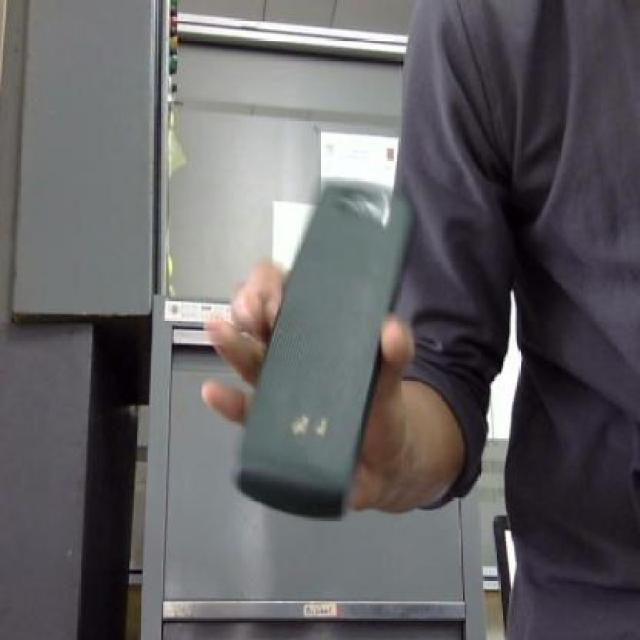Plastic: (229, 172, 422, 524)
